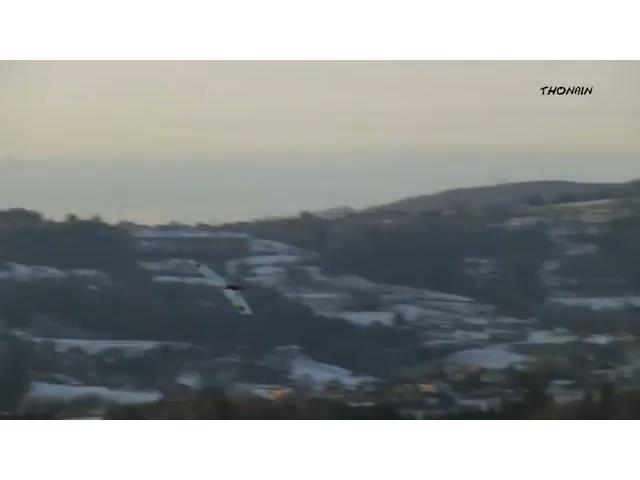Anti-Drone: (181, 246, 265, 328)
